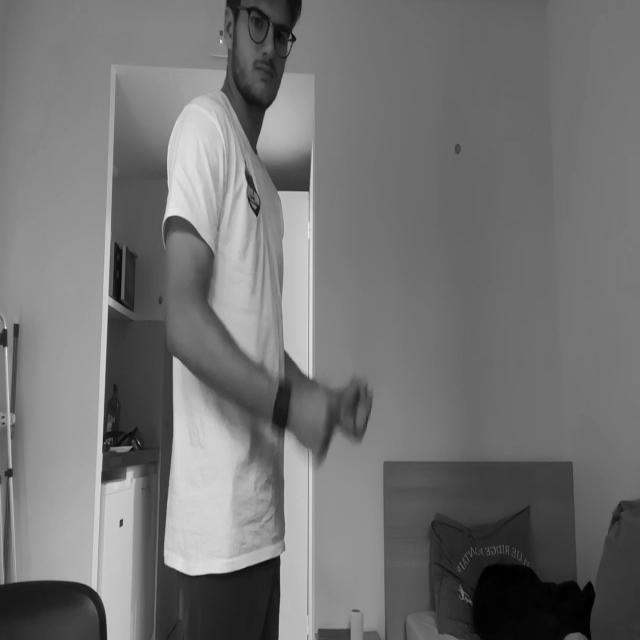elbow: (164, 302, 206, 357)
hand: (284, 390, 334, 462), (337, 373, 374, 446)
shoulder: (176, 110, 223, 194)
